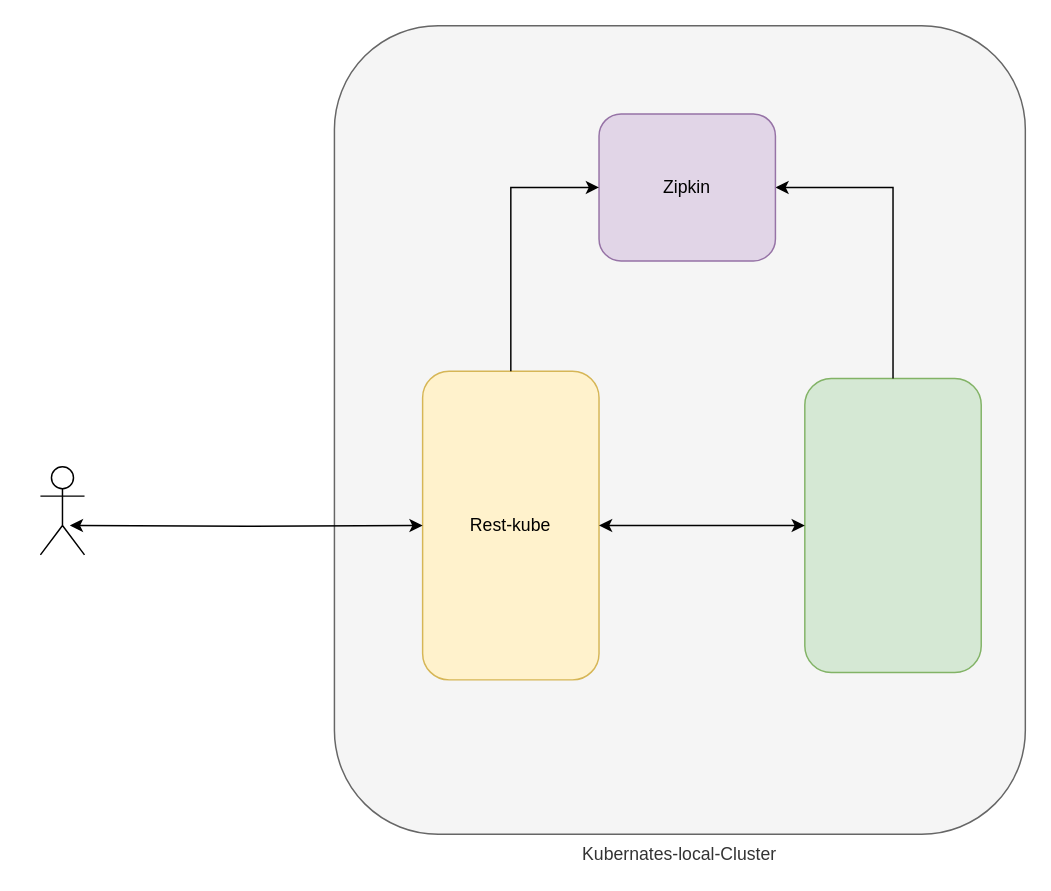
Some shapes in this 1051 by 891 pixel diagram are drawn without their labels. Each missing label, with the centre of its shape:
"Browser" belongs at point (62, 510).
"Rest-Server" belongs at point (892, 525).
